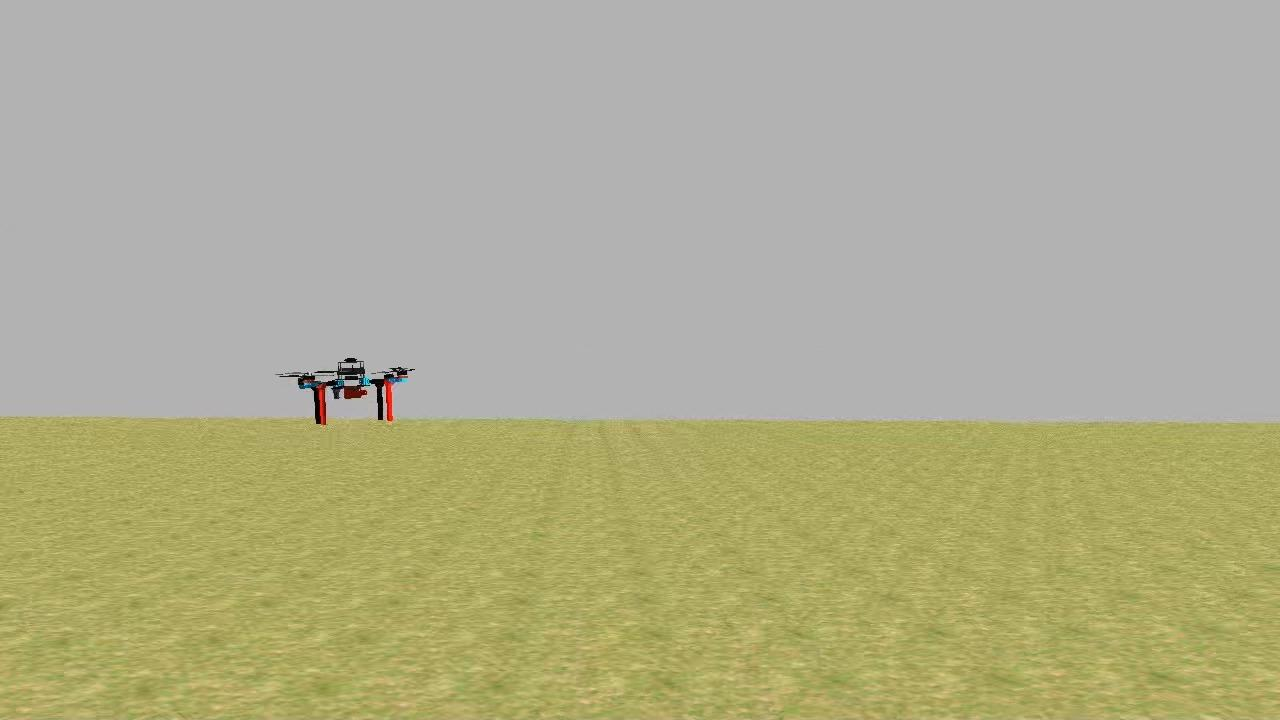UAV: (290, 352, 414, 434)
